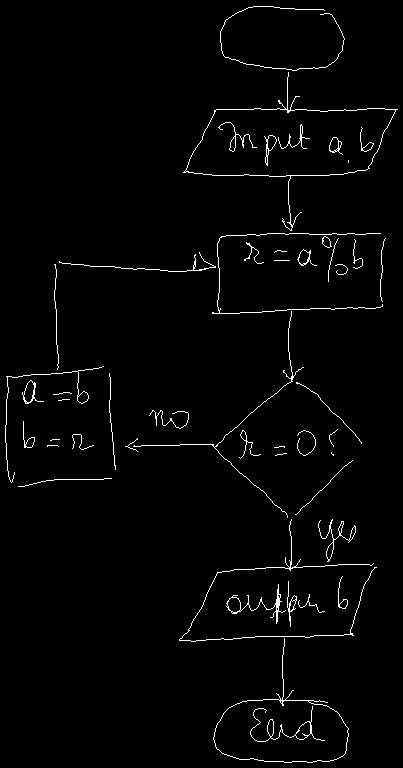arrow: (54, 252, 215, 369), (283, 311, 303, 380), (125, 438, 213, 451), (276, 638, 293, 705), (282, 175, 301, 230), (278, 72, 299, 112), (285, 519, 300, 570)
data: (179, 563, 376, 641), (183, 108, 397, 176)
decision: (212, 381, 361, 517)
process: (212, 233, 385, 313), (5, 366, 115, 486)
terminator: (213, 699, 348, 762), (220, 6, 344, 70)
text: (218, 122, 373, 165), (226, 576, 347, 626), (22, 372, 93, 449), (244, 236, 362, 281), (239, 429, 337, 458), (250, 706, 324, 741), (318, 519, 355, 561), (149, 410, 188, 428)
